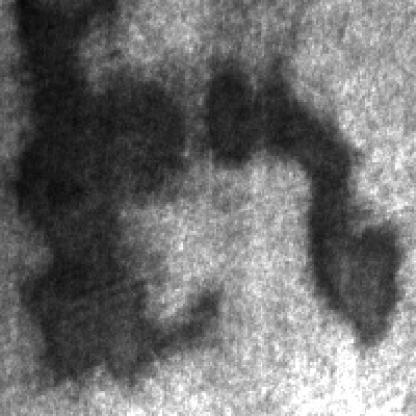patches: (5, 0, 176, 368), (198, 56, 402, 345)
